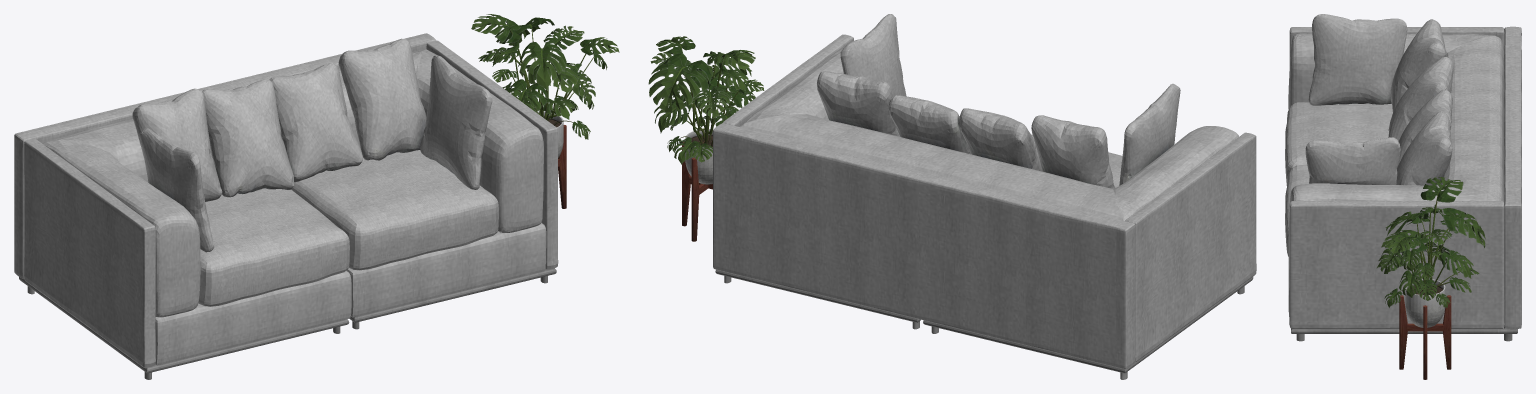
Rendered from sofa.glb.
The picture shows the model from 3 angles, left to right: view 1: azimuth 30°, elevation 25°; view 2: azimuth 150°, elevation 25°; view 3: azimuth 270°, elevation 25°; orthographic projection. The views are drawn at different scales.
Parts seen in each view (by area): view 1: modern_sofa_5_n0, modern_sofa_2_n0, modern_sofa_0_n0, modern_sofa_3_n0, modern_sofa_1_n0, monstera_2_n1, modern_sofa_4_n0, monstera_3_n1, monstera_1_n1; view 2: modern_sofa_2_n0, modern_sofa_5_n0, modern_sofa_3_n0, monstera_2_n1, modern_sofa_4_n0, monstera_1_n1, monstera_3_n1, monstera_0_n1; view 3: modern_sofa_2_n0, modern_sofa_5_n0, modern_sofa_3_n0, monstera_2_n1, modern_sofa_0_n0, monstera_1_n1, monstera_0_n1, modern_sofa_4_n0, monstera_3_n1.
Boxes of the visible parts, x1=… form: modern_sofa_5_n0: x1=132, y1=38, x2=492, y2=252; modern_sofa_2_n0: x1=14, y1=33, x2=558, y2=367; modern_sofa_0_n0: x1=198, y1=150, x2=498, y2=306; modern_sofa_3_n0: x1=42, y1=49, x2=543, y2=317; modern_sofa_1_n0: x1=155, y1=223, x2=546, y2=365; monstera_2_n1: x1=471, y1=14, x2=619, y2=139; modern_sofa_4_n0: x1=19, y1=268, x2=556, y2=379; monstera_3_n1: x1=509, y1=29, x2=593, y2=125; monstera_1_n1: x1=558, y1=125, x2=566, y2=208; modern_sofa_2_n0: x1=713, y1=34, x2=1256, y2=369; modern_sofa_5_n0: x1=817, y1=14, x2=1180, y2=188; modern_sofa_3_n0: x1=740, y1=40, x2=1238, y2=220; monstera_2_n1: x1=648, y1=36, x2=764, y2=164; modern_sofa_4_n0: x1=715, y1=269, x2=1253, y2=379; monstera_1_n1: x1=682, y1=142, x2=712, y2=241; monstera_3_n1: x1=679, y1=48, x2=739, y2=146; monstera_0_n1: x1=685, y1=129, x2=713, y2=184; modern_sofa_2_n0: x1=1289, y1=26, x2=1521, y2=329; modern_sofa_5_n0: x1=1305, y1=14, x2=1453, y2=185; modern_sofa_3_n0: x1=1288, y1=33, x2=1504, y2=268; monstera_2_n1: x1=1376, y1=177, x2=1485, y2=307; modern_sofa_0_n0: x1=1285, y1=102, x2=1392, y2=256; monstera_1_n1: x1=1399, y1=295, x2=1451, y2=379; monstera_0_n1: x1=1405, y1=279, x2=1445, y2=327; modern_sofa_4_n0: x1=1291, y1=327, x2=1517, y2=341; monstera_3_n1: x1=1400, y1=195, x2=1460, y2=294.
Bounding box in the file's own units: 1.99 × 0.72 × 0.86.
9 materials, 9 textured.
